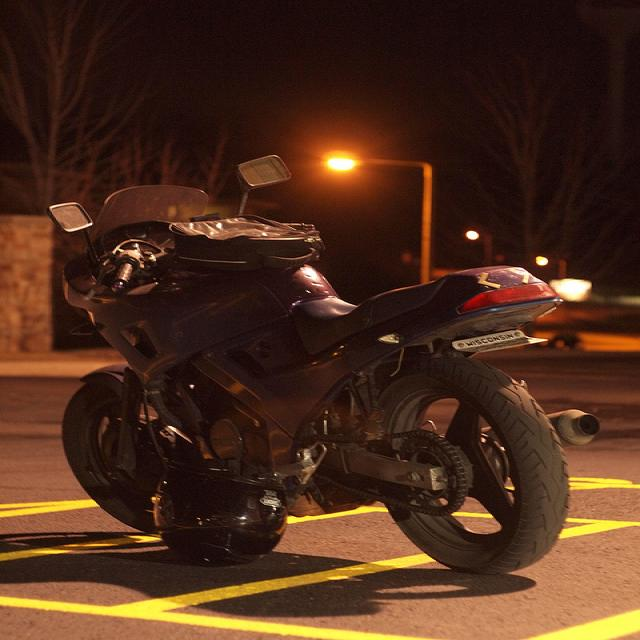Motorbike: (6, 172, 558, 592)
